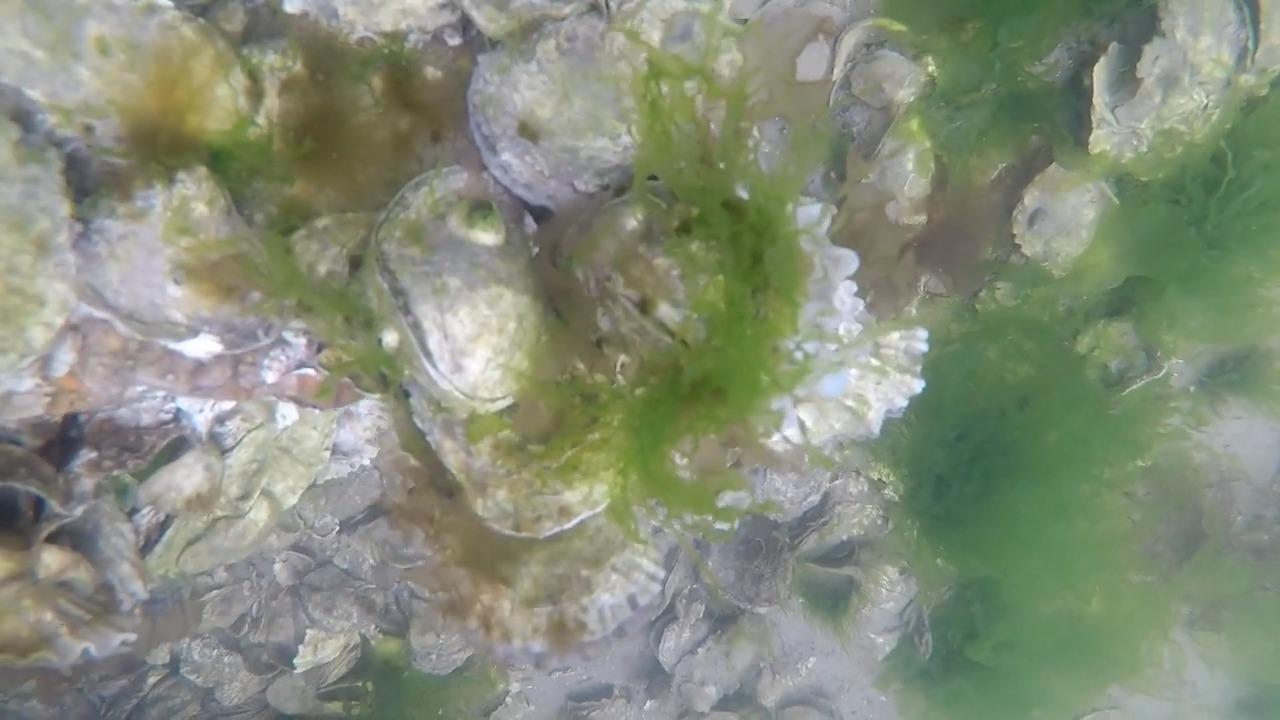Oyster: (805, 12, 1025, 320), (712, 219, 938, 487), (364, 164, 561, 420), (4, 1, 260, 191), (405, 481, 656, 666), (250, 19, 465, 219), (132, 394, 345, 581), (64, 170, 285, 350), (403, 384, 639, 551), (466, 17, 643, 209), (1084, 4, 1272, 179), (556, 194, 710, 382), (712, 2, 863, 168), (1, 109, 82, 380), (823, 20, 934, 152), (1012, 163, 1114, 270), (284, 206, 378, 309), (292, 1, 483, 49), (172, 630, 273, 705), (132, 443, 224, 522), (863, 133, 942, 225), (1073, 312, 1162, 393), (446, 2, 598, 46), (282, 627, 373, 699), (1088, 36, 1149, 140), (751, 649, 829, 712), (405, 627, 478, 678), (921, 20, 945, 21)
